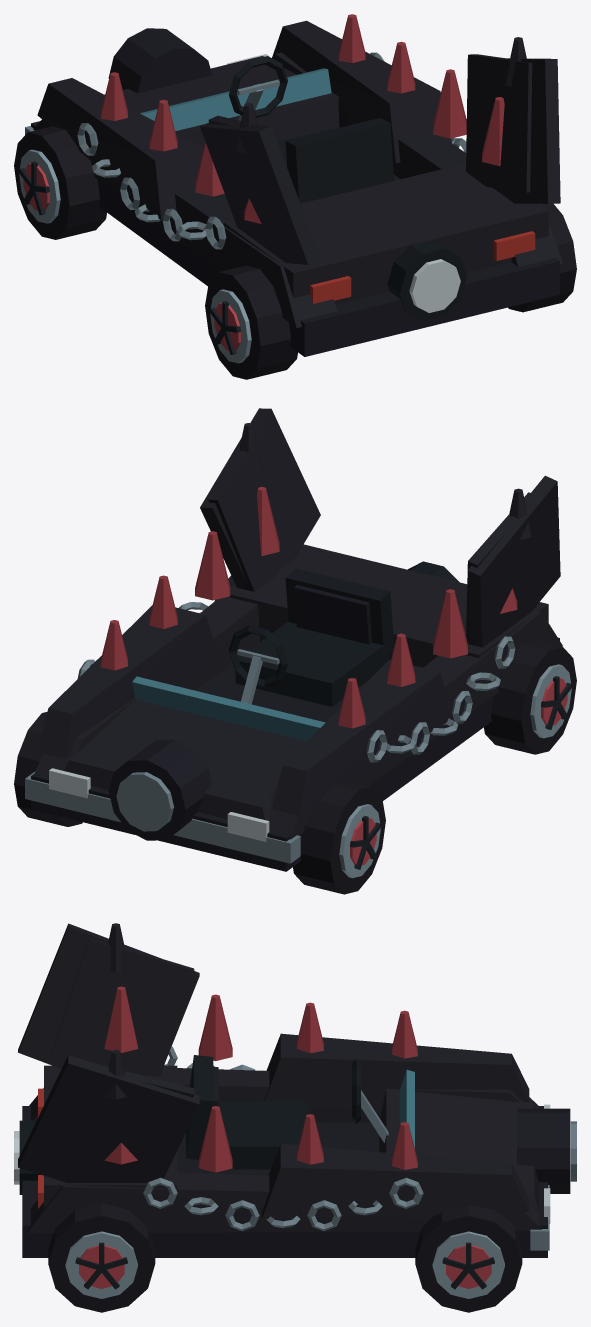
The model's file is kart.glb.
3 views of the same model, one above another, from view 1: azimuth 30°, elevation 25°; view 2: azimuth 150°, elevation 25°; view 3: azimuth 270°, elevation 25° (orthographic). The views are drawn at different scales.
Parts seen in each view (by area): view 1: identity-batmobile-batmobile-turbine-nose, identity-batmobile-driver-cockpit, identity-batmobile-motif-bat-fins, identity-batmobile-motif-spines, wheel-rear-left, wheel-front-left, identity-batmobile-motif-chains, wheel-rear-right; view 2: identity-batmobile-batmobile-turbine-nose, identity-batmobile-driver-cockpit, identity-batmobile-motif-bat-fins, identity-batmobile-motif-spines, wheel-front-left, wheel-rear-left, identity-batmobile-motif-chains, wheel-front-right; view 3: identity-batmobile-batmobile-turbine-nose, identity-batmobile-motif-bat-fins, wheel-rear-right, wheel-front-right, identity-batmobile-motif-spines, identity-batmobile-driver-cockpit, identity-batmobile-motif-chains.
Part boxes in pixels (x1,y1,x2,y2): identity-batmobile-batmobile-turbine-nose: (25, 20, 562, 356); identity-batmobile-driver-cockpit: (229, 56, 393, 203); identity-batmobile-motif-bat-fins: (208, 37, 532, 192); identity-batmobile-motif-spines: (100, 14, 504, 223); wheel-rear-left: (205, 265, 297, 379); wheel-front-left: (14, 126, 106, 239); identity-batmobile-motif-chains: (77, 52, 466, 249); wheel-rear-right: (508, 203, 576, 312); identity-batmobile-batmobile-turbine-nose: (25, 408, 562, 871); identity-batmobile-driver-cockpit: (228, 568, 394, 706); identity-batmobile-motif-bat-fins: (208, 423, 531, 645); identity-batmobile-motif-spines: (100, 487, 517, 728); wheel-front-left: (293, 781, 385, 894); wheel-rear-left: (484, 640, 576, 754); identity-batmobile-motif-chains: (77, 602, 515, 762); wheel-front-right: (14, 712, 82, 826); identity-batmobile-batmobile-turbine-nose: (14, 923, 576, 1257); identity-batmobile-motif-bat-fins: (52, 923, 194, 1099); wheel-rear-right: (48, 1203, 155, 1312); wheel-front-right: (415, 1204, 522, 1312); identity-batmobile-motif-spines: (104, 986, 417, 1172); identity-batmobile-driver-cockpit: (186, 1055, 388, 1169); identity-batmobile-motif-chains: (143, 1046, 423, 1231).
Bounding box in the file's own units: 2.09 × 1.55 × 3.16.
